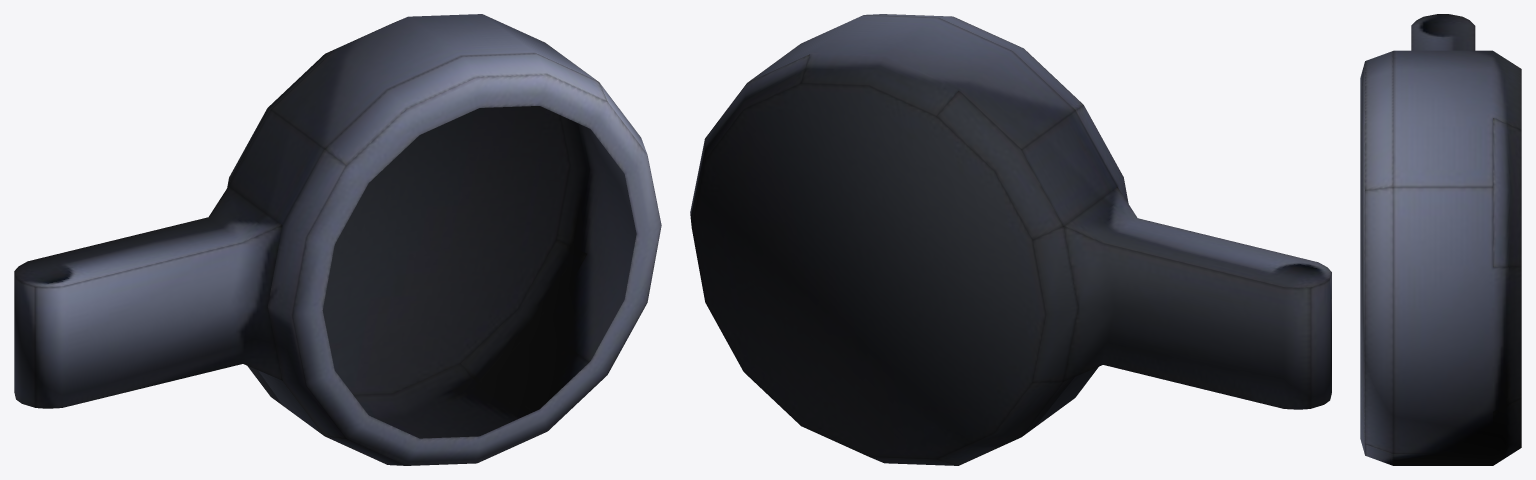
File: buttonHolderMirrored.obj
The picture shows the model from 3 angles, left to right: view 1: azimuth 30°, elevation 25°; view 2: azimuth 150°, elevation 25°; view 3: azimuth 270°, elevation 25°; orthographic projection. The views are drawn at different scales.
Parts seen in each view (by area): view 1: buttonring007; view 2: buttonring007; view 3: buttonring007.
Part boxes in pixels (x1,y1,x2,y2): buttonring007: [14, 14, 661, 465]; buttonring007: [690, 14, 1331, 465]; buttonring007: [1360, 14, 1521, 465].
Size of the model in its own units: 108 by 68.86 by 26.72.
1 material, 1 textured.
